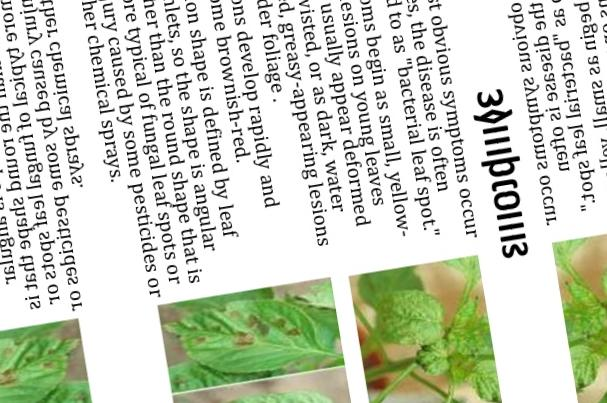Tomato leaf bacterial spot: (168, 288, 340, 385), (362, 284, 446, 358), (182, 379, 357, 403)
